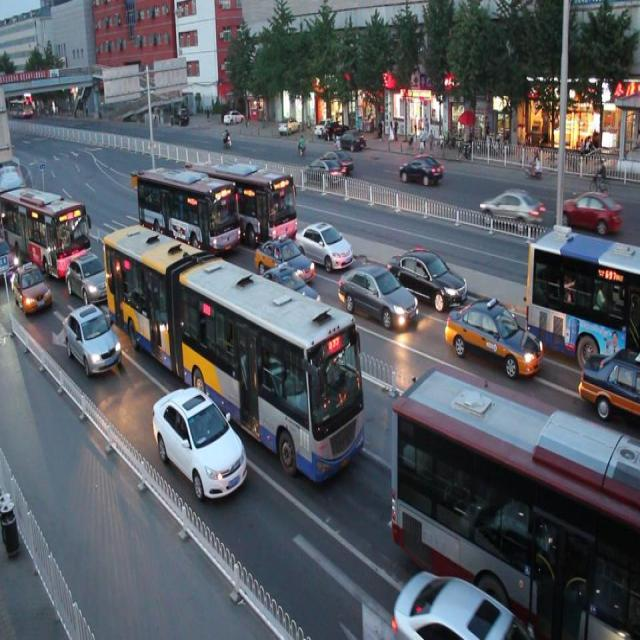car: (151, 384, 247, 499), (390, 563, 526, 640), (446, 294, 544, 382), (337, 258, 416, 331), (390, 243, 468, 309), (578, 346, 640, 422), (250, 260, 323, 324), (63, 302, 121, 378), (253, 230, 314, 289), (294, 214, 352, 273), (64, 251, 116, 306), (13, 259, 52, 316), (1, 240, 19, 284)
van: (102, 218, 366, 482), (392, 368, 640, 640), (524, 225, 640, 360), (136, 160, 240, 262), (191, 153, 298, 248), (1, 182, 90, 272)
